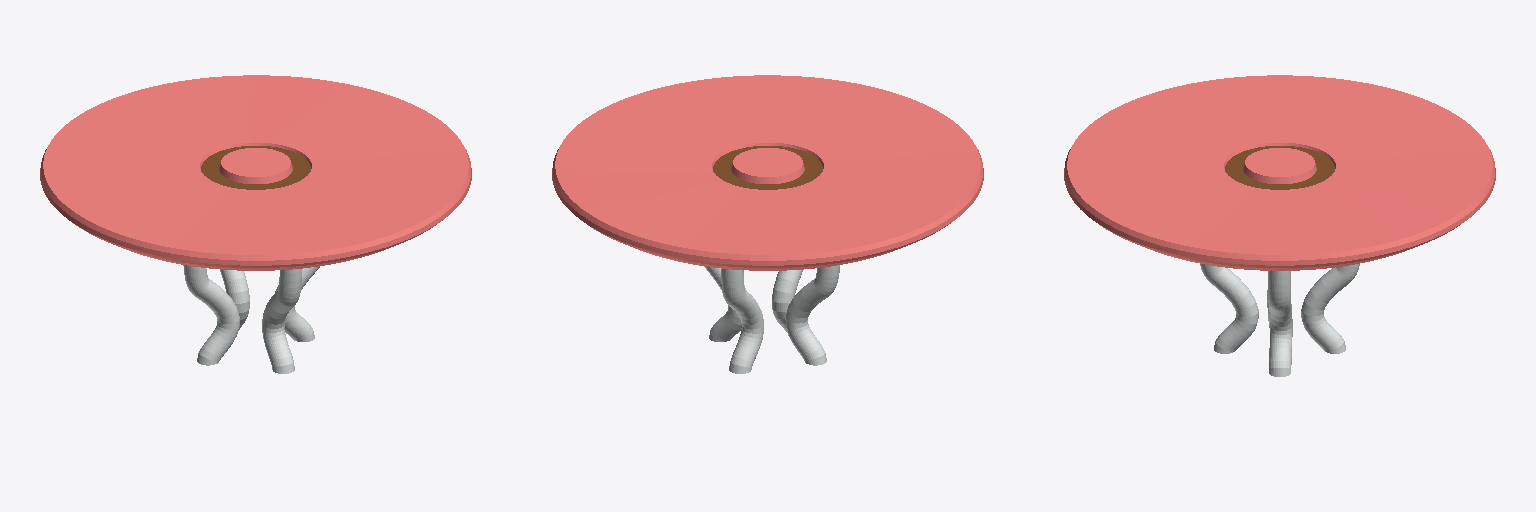
3 views of the same model, side by side, from view 1: azimuth 30°, elevation 25°; view 2: azimuth 150°, elevation 25°; view 3: azimuth 270°, elevation 25° (orthographic).
Visible parts, largest first — view 1: Stol; view 2: Stol; view 3: Stol.
Part boxes in pixels (bbox=[...]): Stol: bbox=[40, 75, 471, 373]; Stol: bbox=[552, 75, 983, 373]; Stol: bbox=[1064, 75, 1495, 376].
Size of the model in its own units: 4.95 by 2.37 by 4.95.
1 materials, 1 textured.